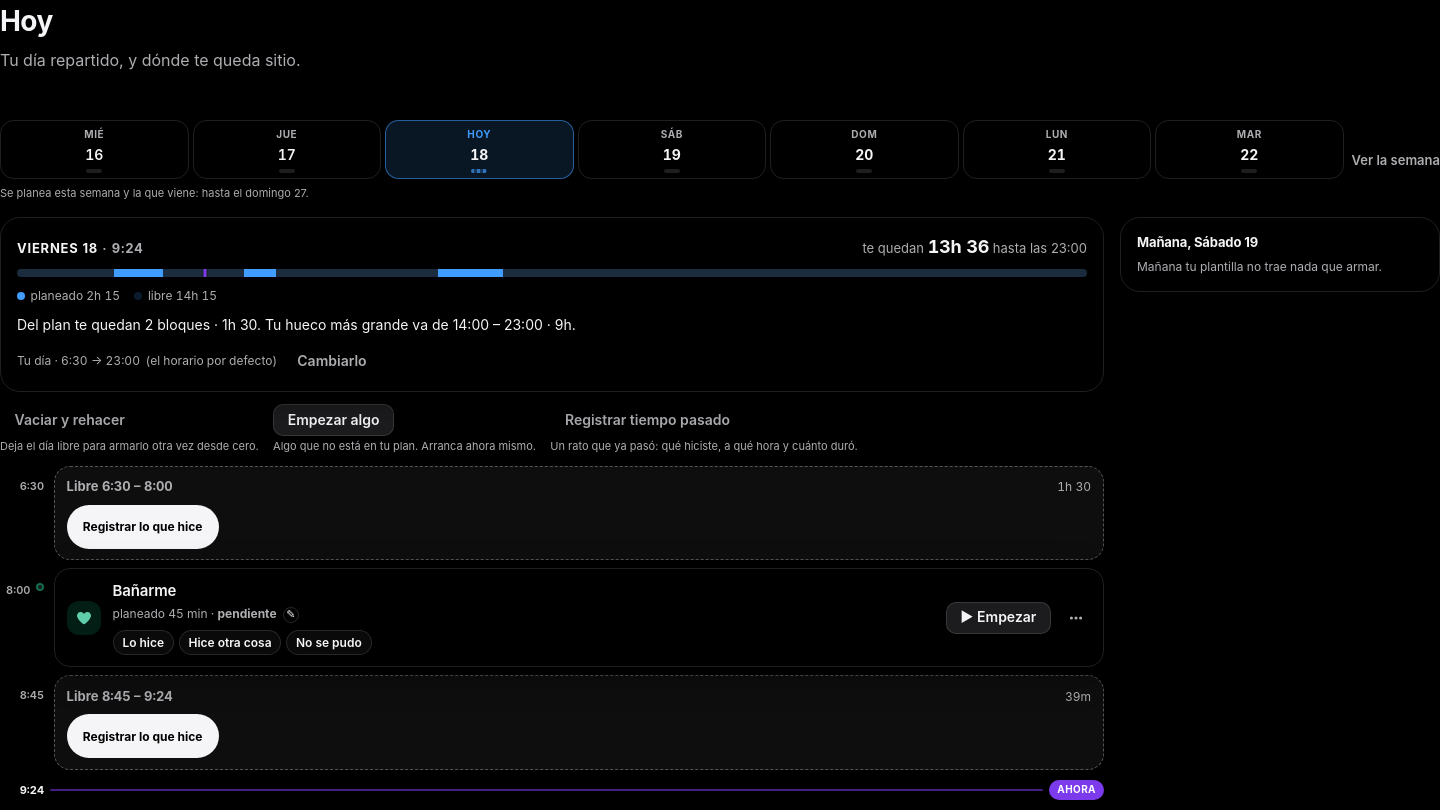
Test case: VidaHoyPage — poner algo en un hueco (tajada 3) › criterio 30 — el «···» de un bloque ofrece quitar del plan y cambiar la hora
This screenshot has width=1440, height=810.
Click the button named "Más opciones de Bañarme" at (1076, 618), box [1062,604,1090,632]
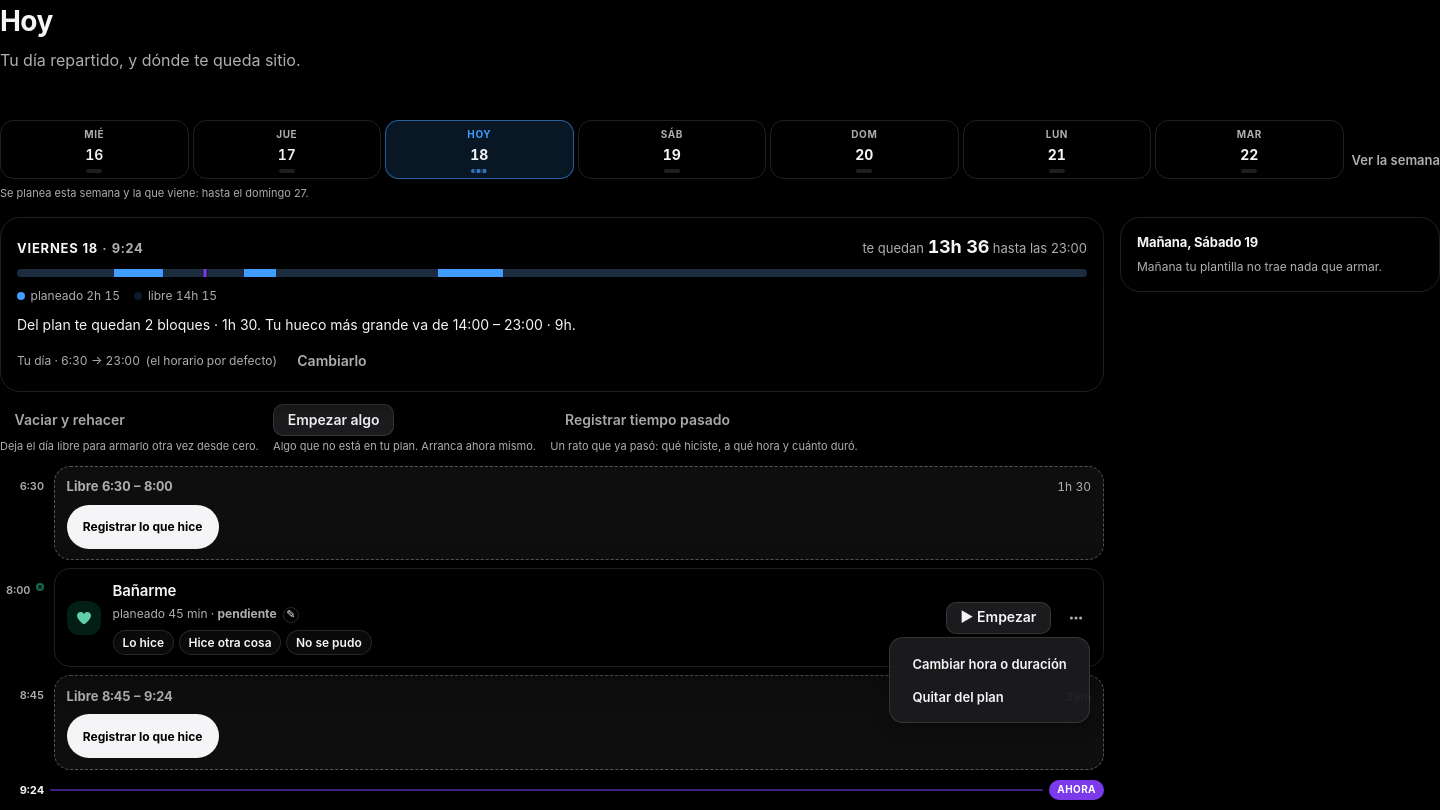
Now the button "Quitar del plan" is shown, box [904,681,1076,712]
Now the button "Cambiar hora o duración" is shown, box [904,649,1076,679]
